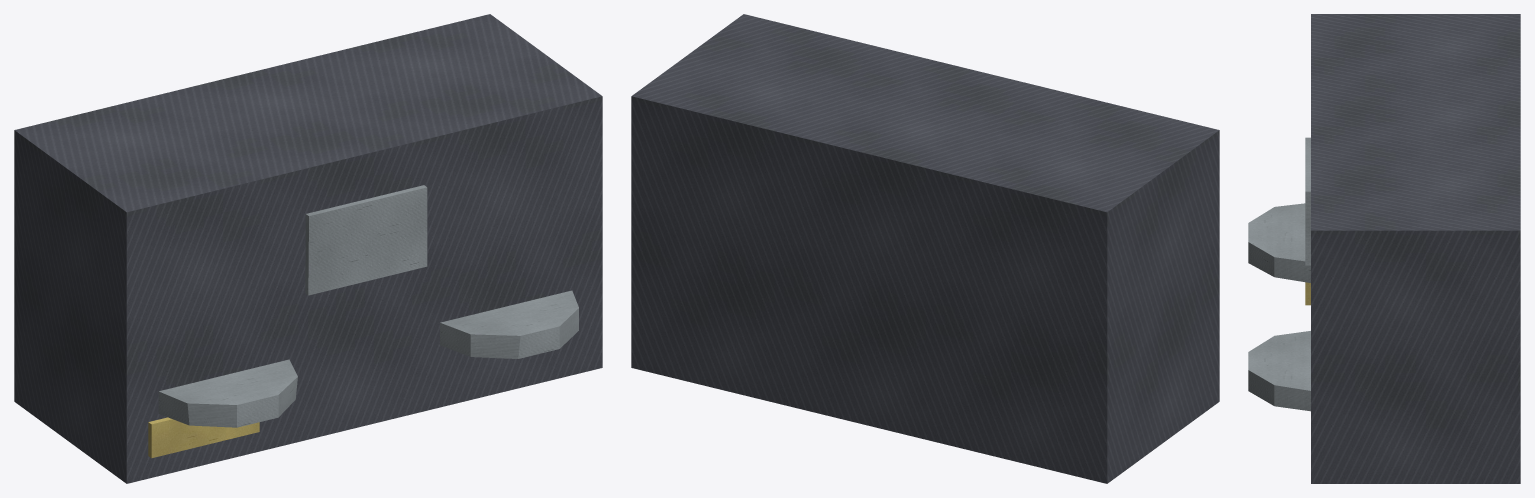
Rendered from boombox_v4.glb.
3 renders of one model, left to right at view 1: azimuth 30°, elevation 25°; view 2: azimuth 150°, elevation 25°; view 3: azimuth 270°, elevation 25°, orthographic. The views are drawn at different scales.
Parts seen in each view (by area): view 1: Variant_boombox_4; view 2: Variant_boombox_4; view 3: Variant_boombox_4.
Part boxes in pixels (box(x1,y1,x2,y2)): Variant_boombox_4: box(14, 14, 602, 483); Variant_boombox_4: box(631, 14, 1219, 483); Variant_boombox_4: box(1248, 14, 1520, 483).
Size of the model in its own units: 0.44 by 0.24 by 0.234.
Materials: 3 (3 with a texture image).
